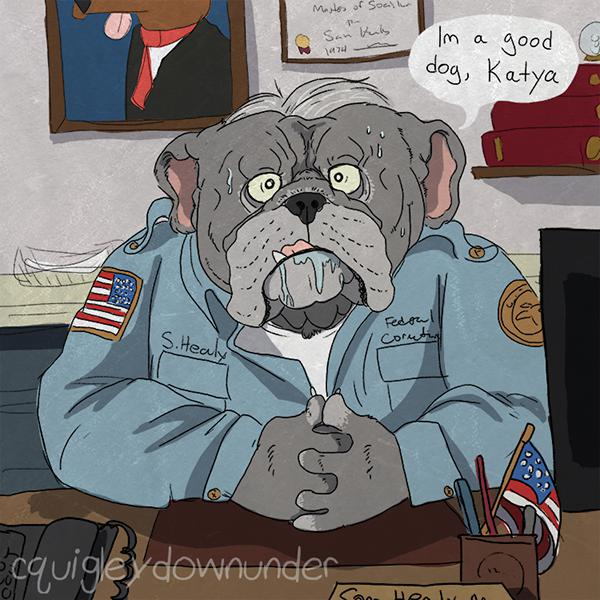dog: (18, 72, 576, 582)
